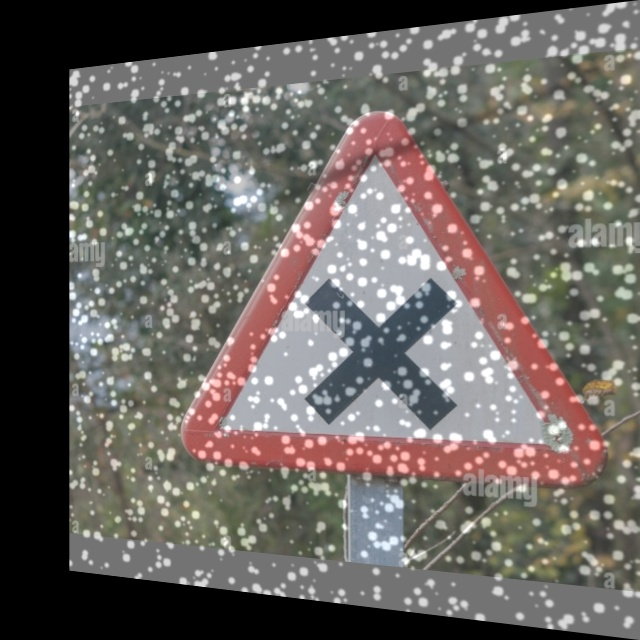Cross_Road: (187, 91, 604, 488)
